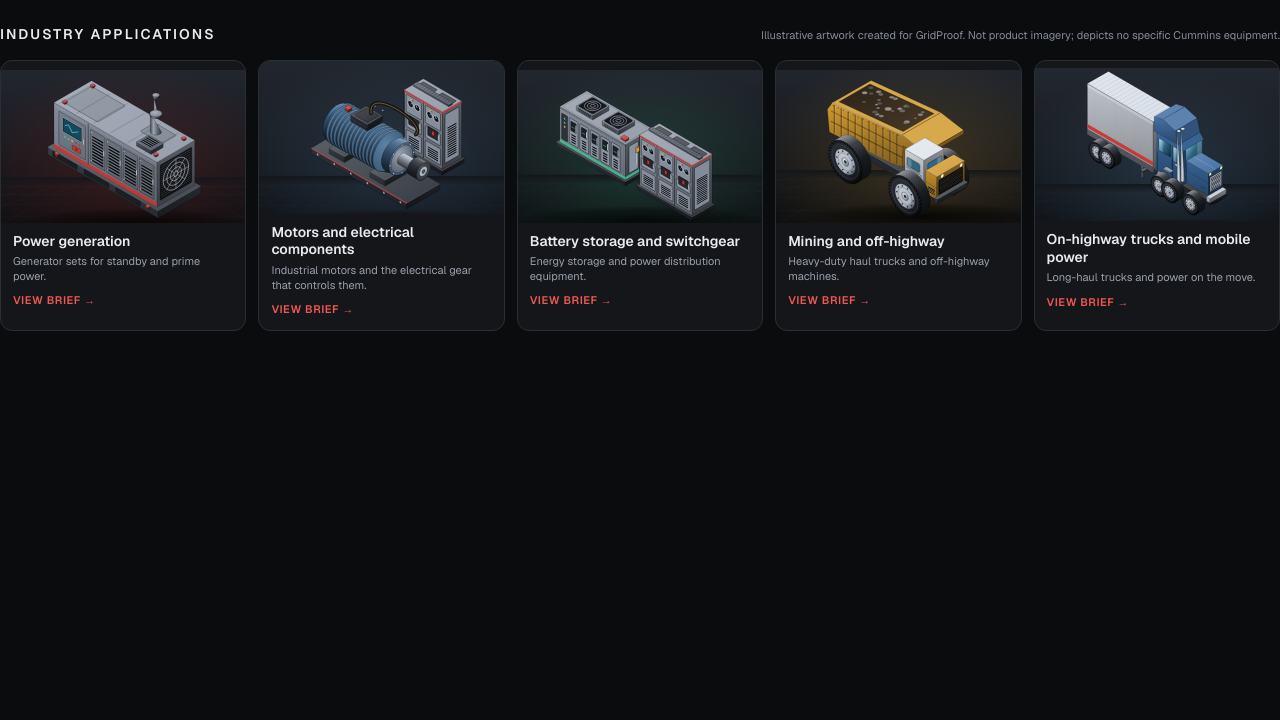
Test case: application brief dialog › opens the Motors and electrical components brief with summary and 2-4 considerations
Click the button "Motors and electrical components": (382, 195) left=258, top=60, right=505, bottom=330
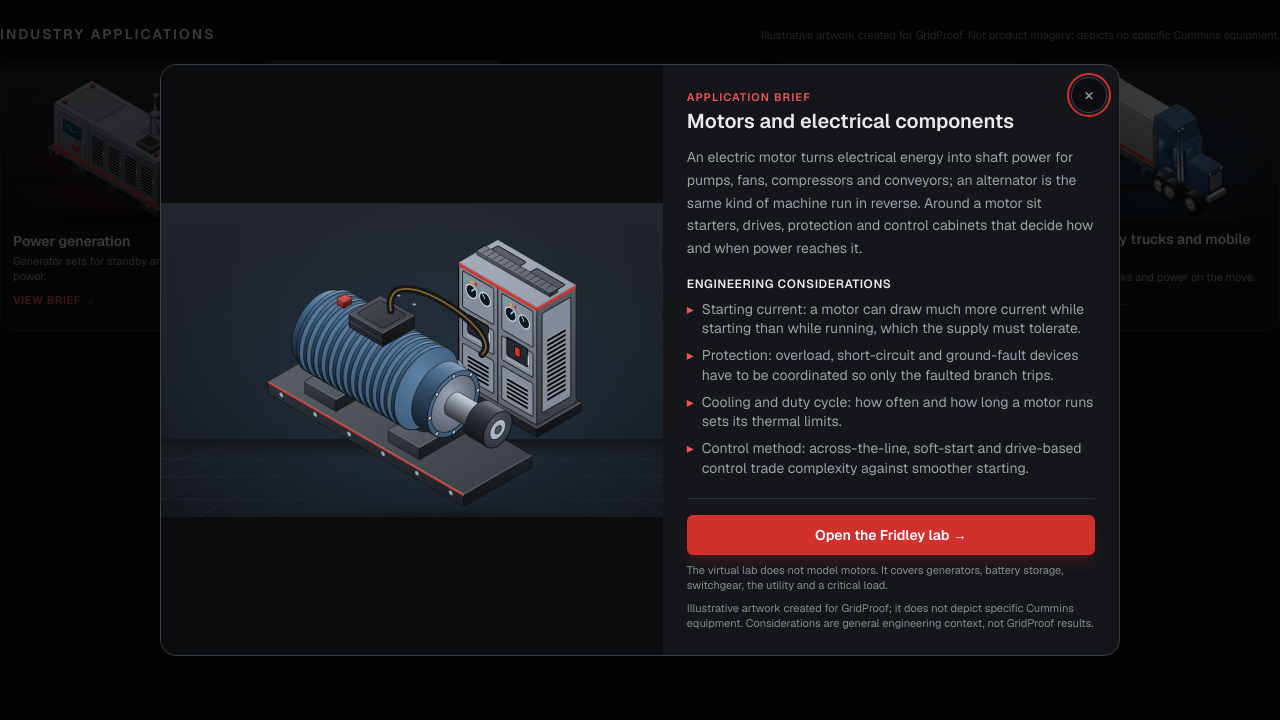
Expected: the text "An electric motor turns electrical energy into shaft power for pumps, fans, compressors and conveyors; an alternator is " is shown, left=687, top=148, right=1093, bottom=257
Expected: the text "does not depict specific Cummins equipment" is shown, left=687, top=601, right=1093, bottom=630
